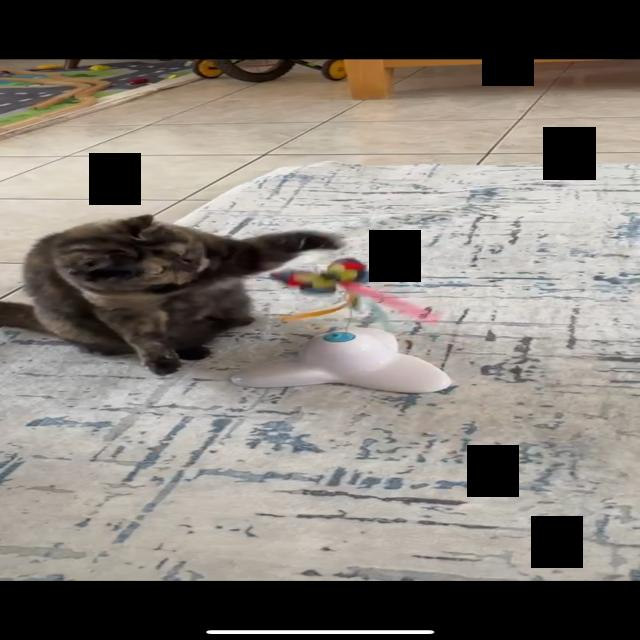authorized: (1, 213, 346, 376)
